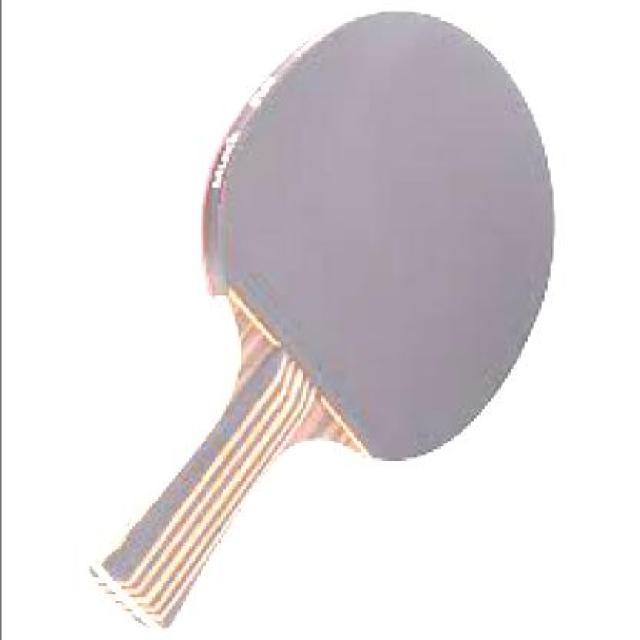table_tennis_racket: (193, 11, 559, 464)
